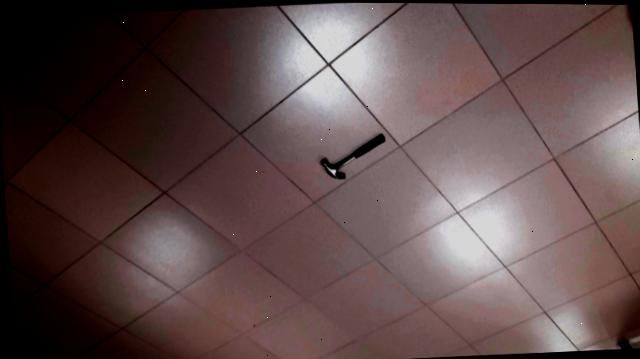hammer: (311, 128, 396, 185)
